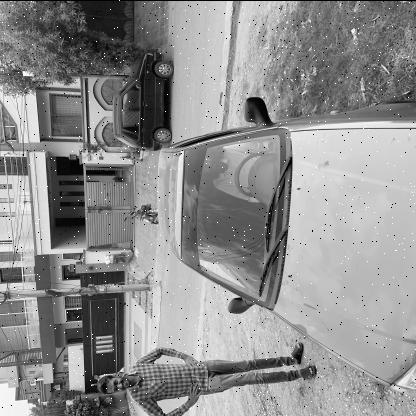no_seatbelt: (199, 148, 255, 184)
